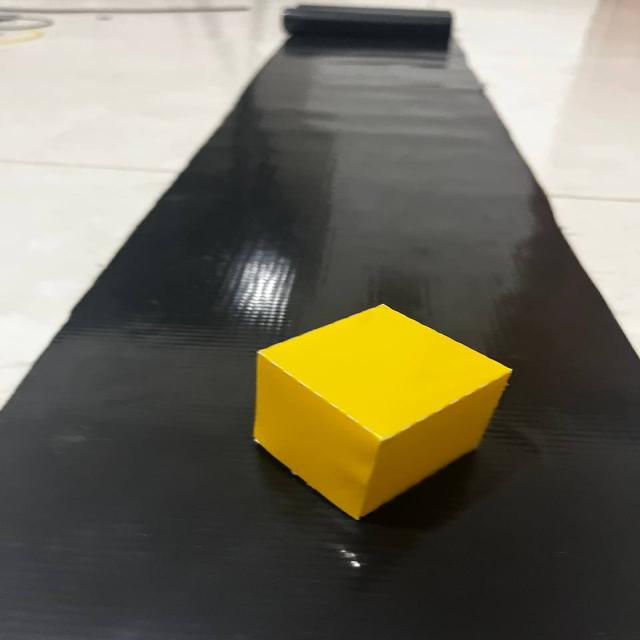Amarillo: (237, 286, 516, 546)
